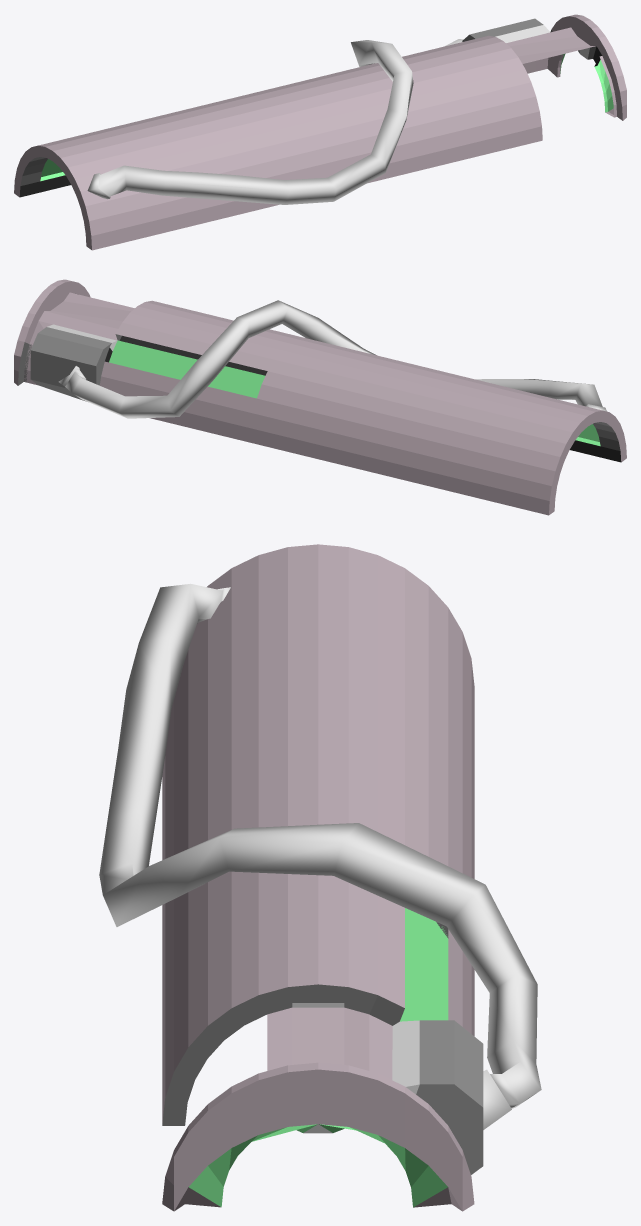
The model's file is MEGAMANO_Kart_Tunel32.fbx.
The picture shows the model from 3 angles, top to bottom: view 1: azimuth 30°, elevation 25°; view 2: azimuth 150°, elevation 25°; view 3: azimuth 270°, elevation 25°; orthographic projection. The views are drawn at different scales.
Visible parts, largest first — view 1: Cylinder, BezierCurve; view 2: Cylinder, BezierCurve; view 3: Cylinder, BezierCurve.
Part boxes in pixels (x1,y1,x2,y2): Cylinder: (14,14,626,250); BezierCurve: (87,39,463,204); Cylinder: (14,279,626,515); BezierCurve: (58,300,606,418); Cylinder: (162,544,483,1211); BezierCurve: (99,583,541,1129).
Bounding box in the file's own units: 932 × 155 × 332.
